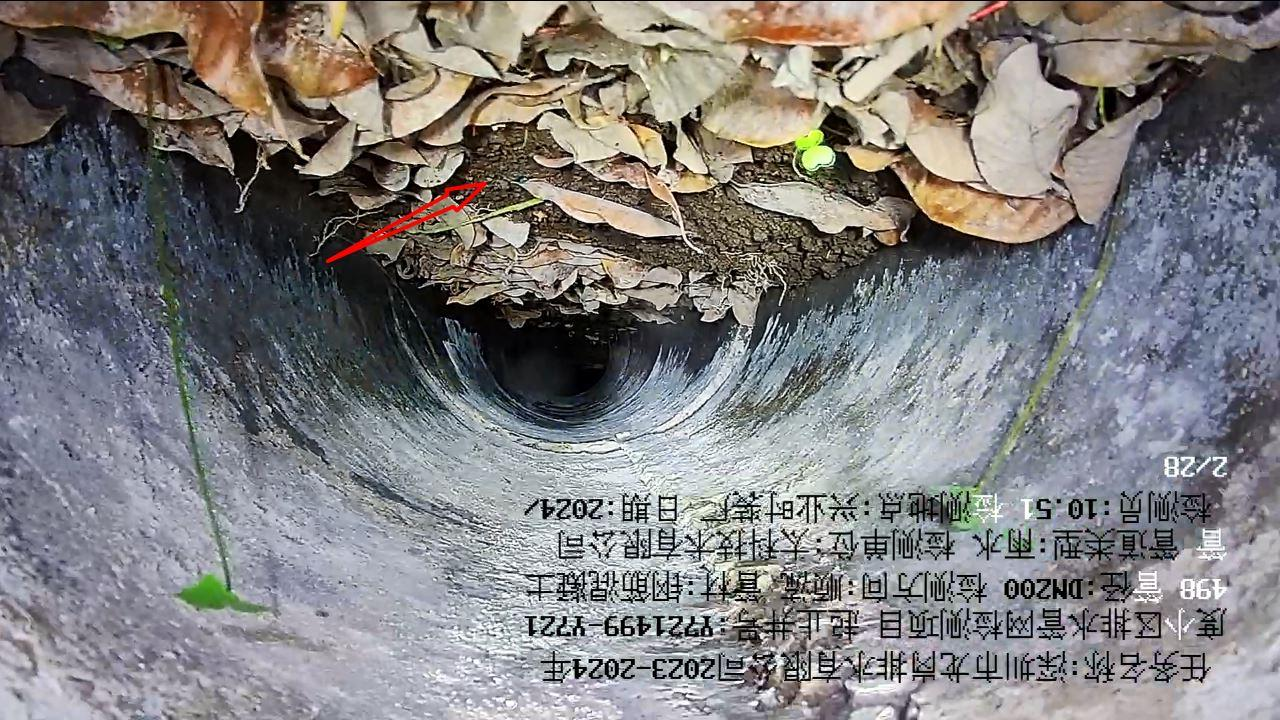CJ: (1, 3, 1280, 337)
CKTJ: (369, 270, 769, 464)
